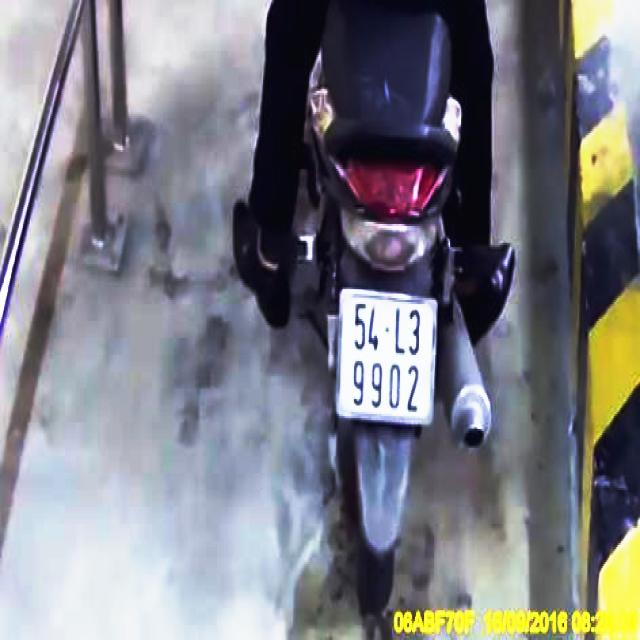license_plate: (341, 296, 437, 426)
